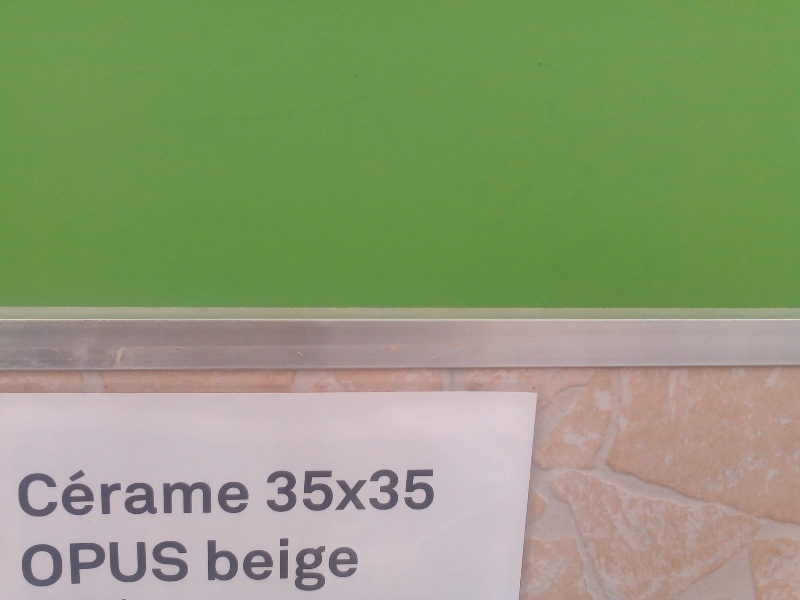text: (209, 538, 224, 593), (225, 538, 240, 593), (241, 538, 256, 593), (257, 538, 272, 593), (273, 538, 288, 593), (289, 538, 304, 593), (305, 538, 320, 593), (321, 538, 336, 593), (337, 538, 352, 593), (17, 469, 32, 518), (33, 469, 48, 518), (49, 469, 64, 518), (65, 469, 80, 518), (81, 469, 96, 518), (97, 469, 112, 518), (113, 469, 128, 518), (129, 469, 144, 518), (145, 469, 160, 518), (161, 469, 176, 518), (177, 469, 192, 518), (193, 469, 208, 518), (209, 469, 224, 518), (225, 469, 240, 518), (33, 539, 48, 587), (49, 539, 64, 587), (65, 539, 80, 587), (81, 539, 96, 587), (97, 539, 112, 587), (113, 539, 128, 587), (129, 539, 144, 587), (145, 539, 160, 587), (161, 539, 176, 587), (273, 469, 288, 512), (289, 469, 304, 512), (305, 469, 320, 512), (321, 469, 336, 512), (337, 469, 352, 512), (353, 469, 368, 512), (369, 469, 384, 512), (385, 469, 400, 512), (401, 469, 416, 512), (417, 469, 432, 512), (177, 539, 188, 587), (22, 539, 32, 587), (241, 469, 250, 518), (353, 538, 359, 593), (268, 469, 272, 512), (433, 469, 437, 512)
